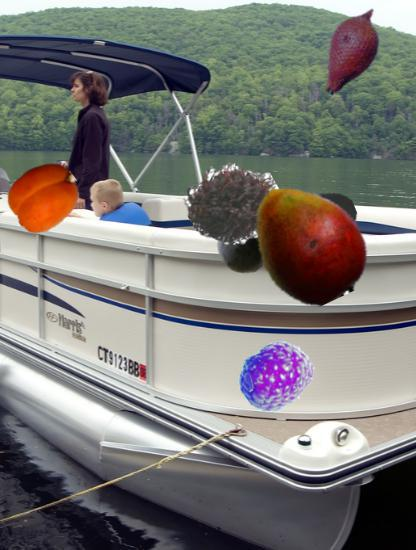Apricot: (8, 160, 81, 233)
Avocado: (281, 184, 359, 262)
Mango: (246, 178, 373, 305)
Plum: (215, 220, 270, 275)
Rambutan: (188, 158, 282, 252)
Raspberry: (237, 338, 315, 416)
Salak: (303, 3, 399, 99)
